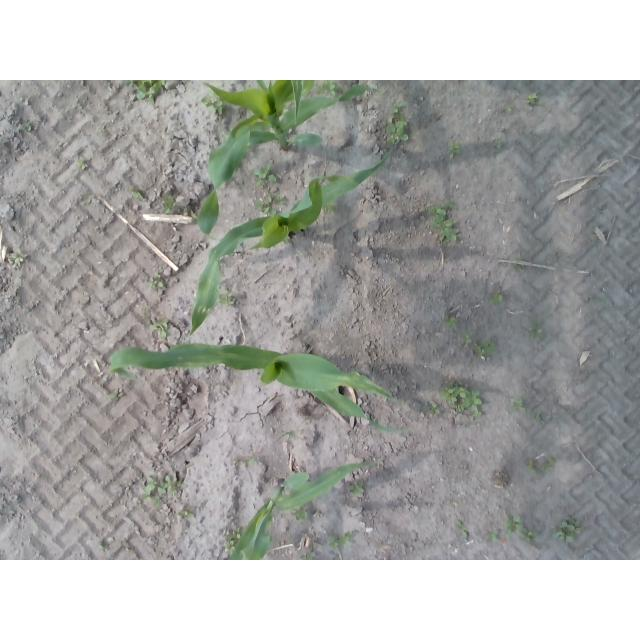Maize: (187, 160, 386, 339), (198, 83, 380, 238), (109, 347, 406, 438), (225, 461, 372, 560)
Weeds: (444, 387, 484, 414), (125, 81, 163, 100), (555, 518, 580, 542), (151, 317, 171, 339), (528, 459, 556, 474), (145, 477, 167, 496), (388, 122, 408, 142), (439, 221, 458, 241), (430, 206, 447, 227), (256, 165, 277, 182), (506, 516, 523, 534), (255, 198, 274, 214), (159, 195, 174, 214), (476, 342, 496, 356), (457, 520, 470, 537), (204, 98, 222, 110), (486, 530, 502, 542), (450, 146, 463, 160), (165, 474, 176, 490), (511, 399, 525, 411), (492, 289, 504, 303), (324, 84, 336, 97), (328, 537, 340, 550), (293, 509, 307, 520), (448, 315, 459, 329), (351, 484, 364, 495), (523, 531, 535, 542), (178, 512, 194, 520), (429, 403, 440, 414), (529, 95, 540, 106), (395, 103, 406, 113), (14, 253, 23, 265), (79, 161, 90, 170), (150, 279, 159, 290), (463, 335, 472, 346), (534, 412, 543, 420), (342, 534, 350, 543), (531, 325, 540, 332)
